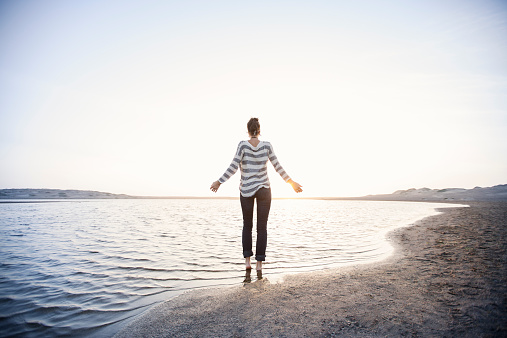em pe: (211, 119, 293, 278)
